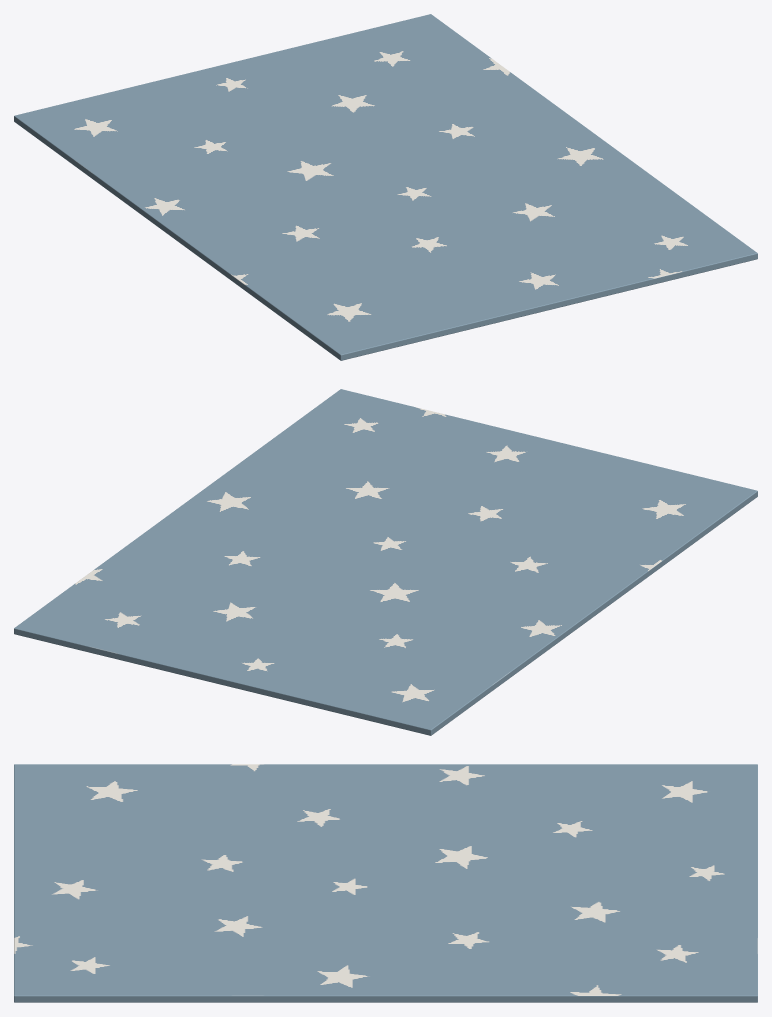
File: rug.glb
3 renders of one model, top to bottom at view 1: azimuth 30°, elevation 25°; view 2: azimuth 150°, elevation 25°; view 3: azimuth 270°, elevation 25°, orthographic. The views are drawn at different scales.
Visible parts, largest first — view 1: star_rug; view 2: star_rug; view 3: star_rug.
Boxes of the visible parts, left/top/right/bottom form: star_rug: left=14, top=14, right=757, bottom=360; star_rug: left=14, top=389, right=757, bottom=735; star_rug: left=14, top=764, right=757, bottom=1002.
Bounding box in the file's own units: 1.4 × 0.02 × 1.9.
Materials: 1 (1 with a texture image).
